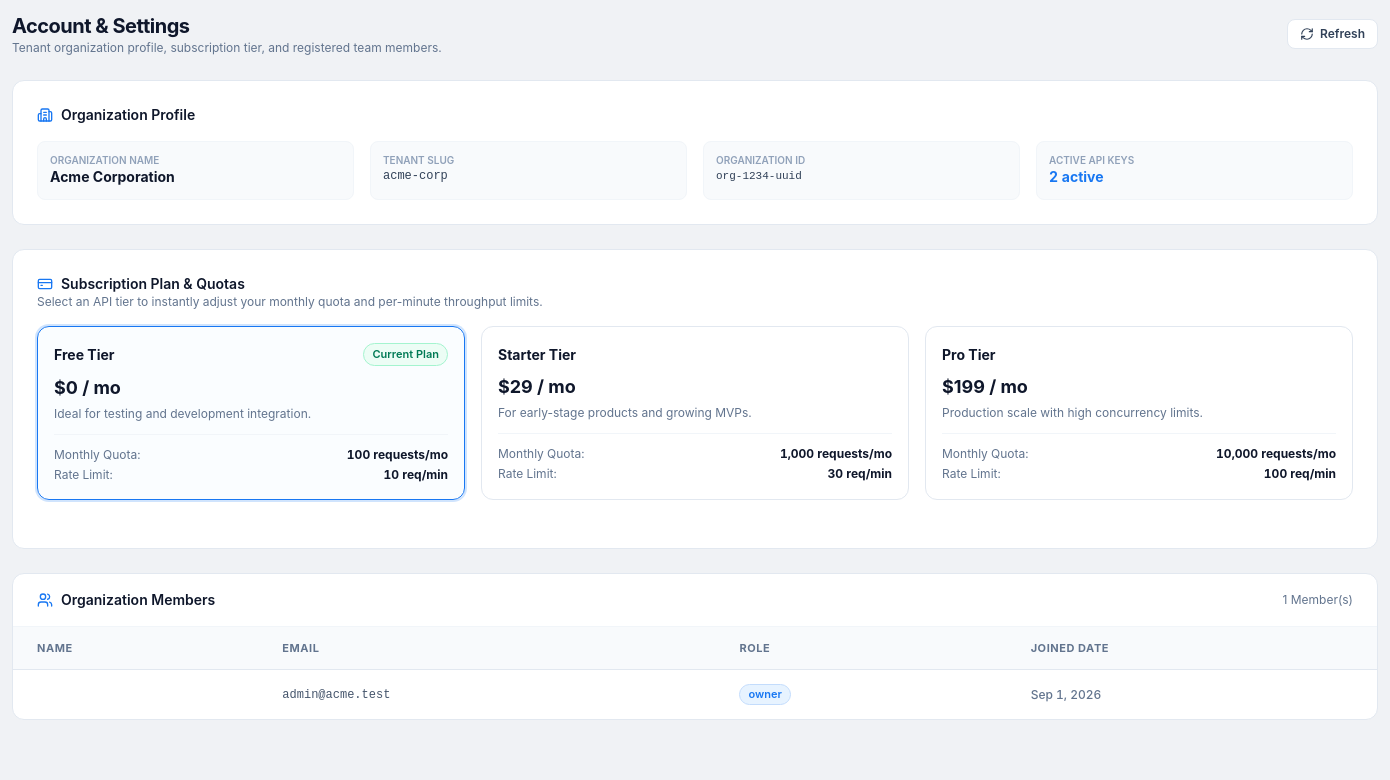
Test: AccountPage › switches plan to Starter tier
This screenshot has width=1390, height=780.
Expected: the text "Acme Corporation" is shown, [50,168,175,185]
Select Starter plan card
Click the text "Starter Tier".
click(537, 355)  # box [498,345,576,365]
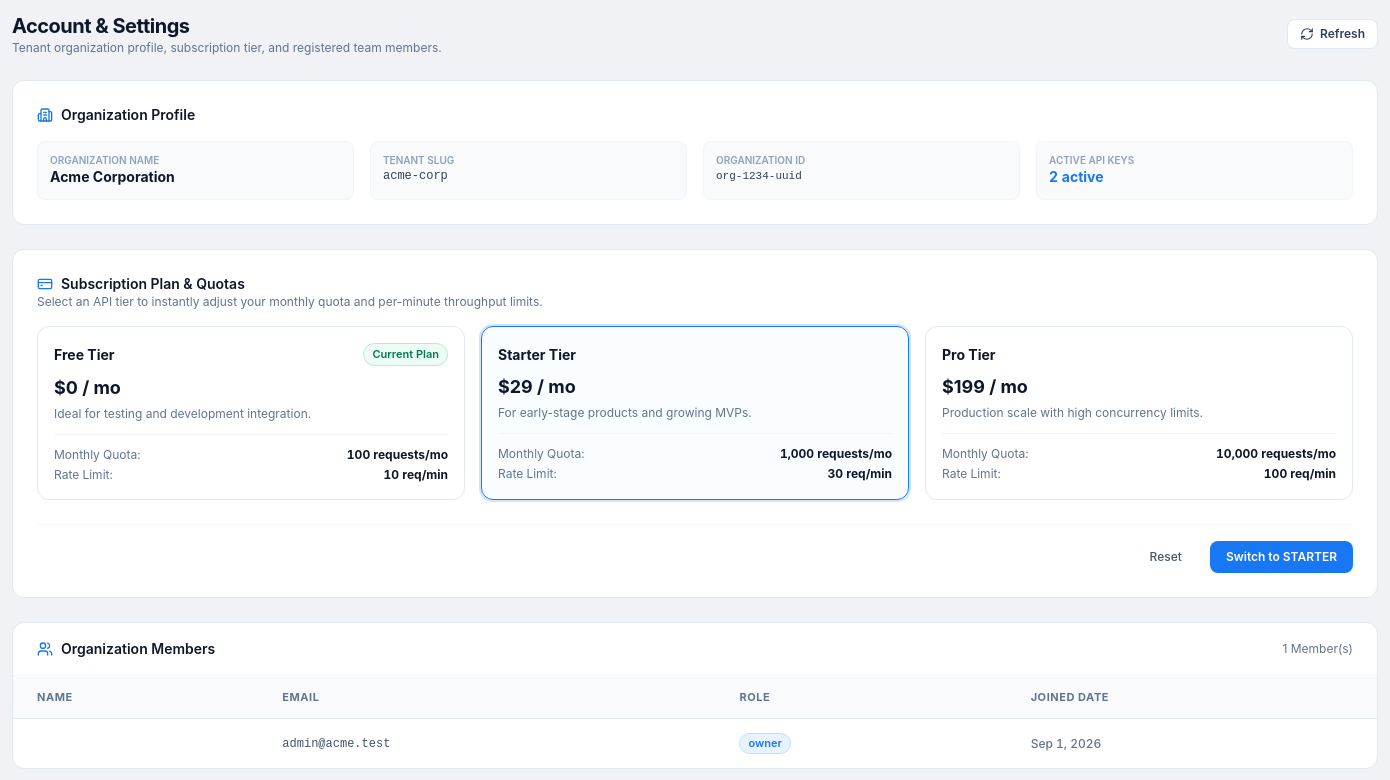
Now the button "Switch to STARTER" is shown
Submit plan update
Click the button "Switch to STARTER".
click(1281, 557)  # box [1210,541,1353,573]
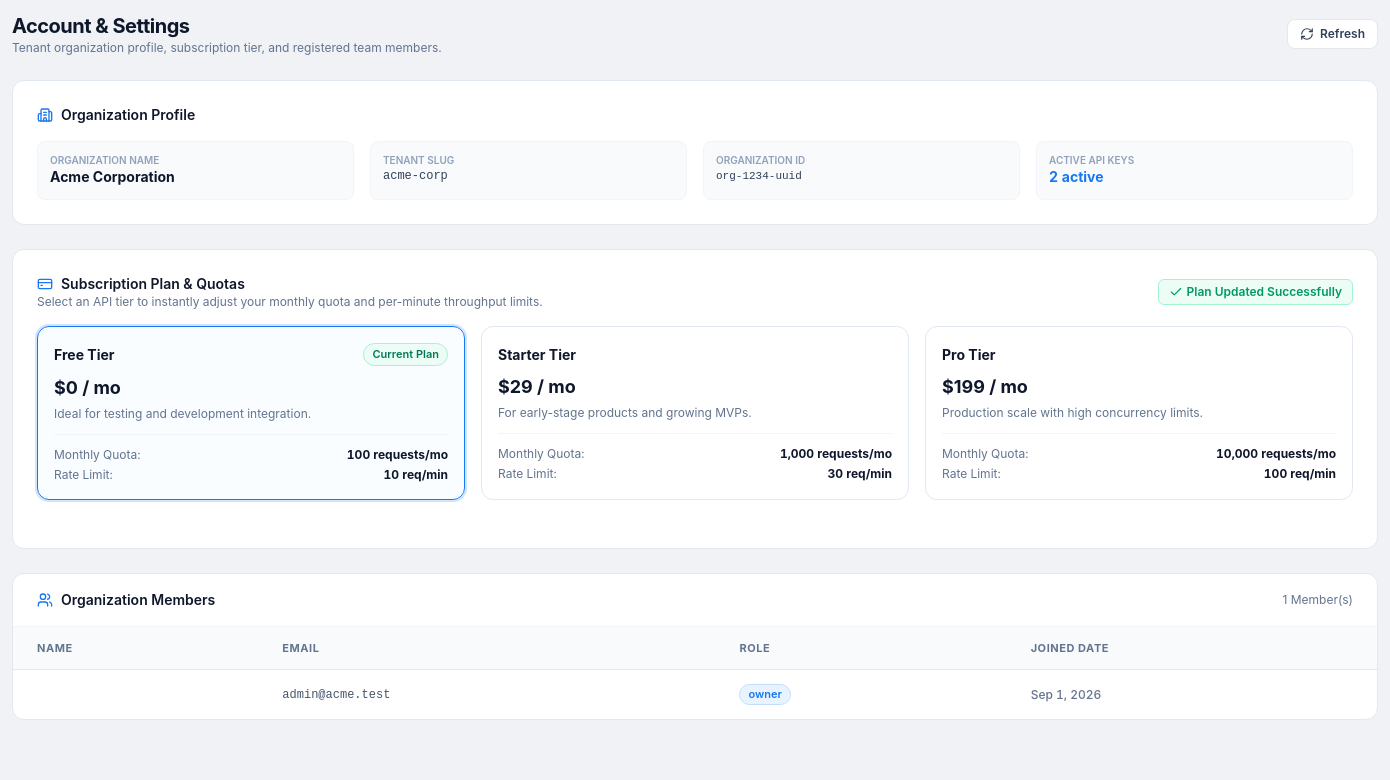
Now the text "Plan Updated Successfully" is shown, box [1158,279,1353,305]
